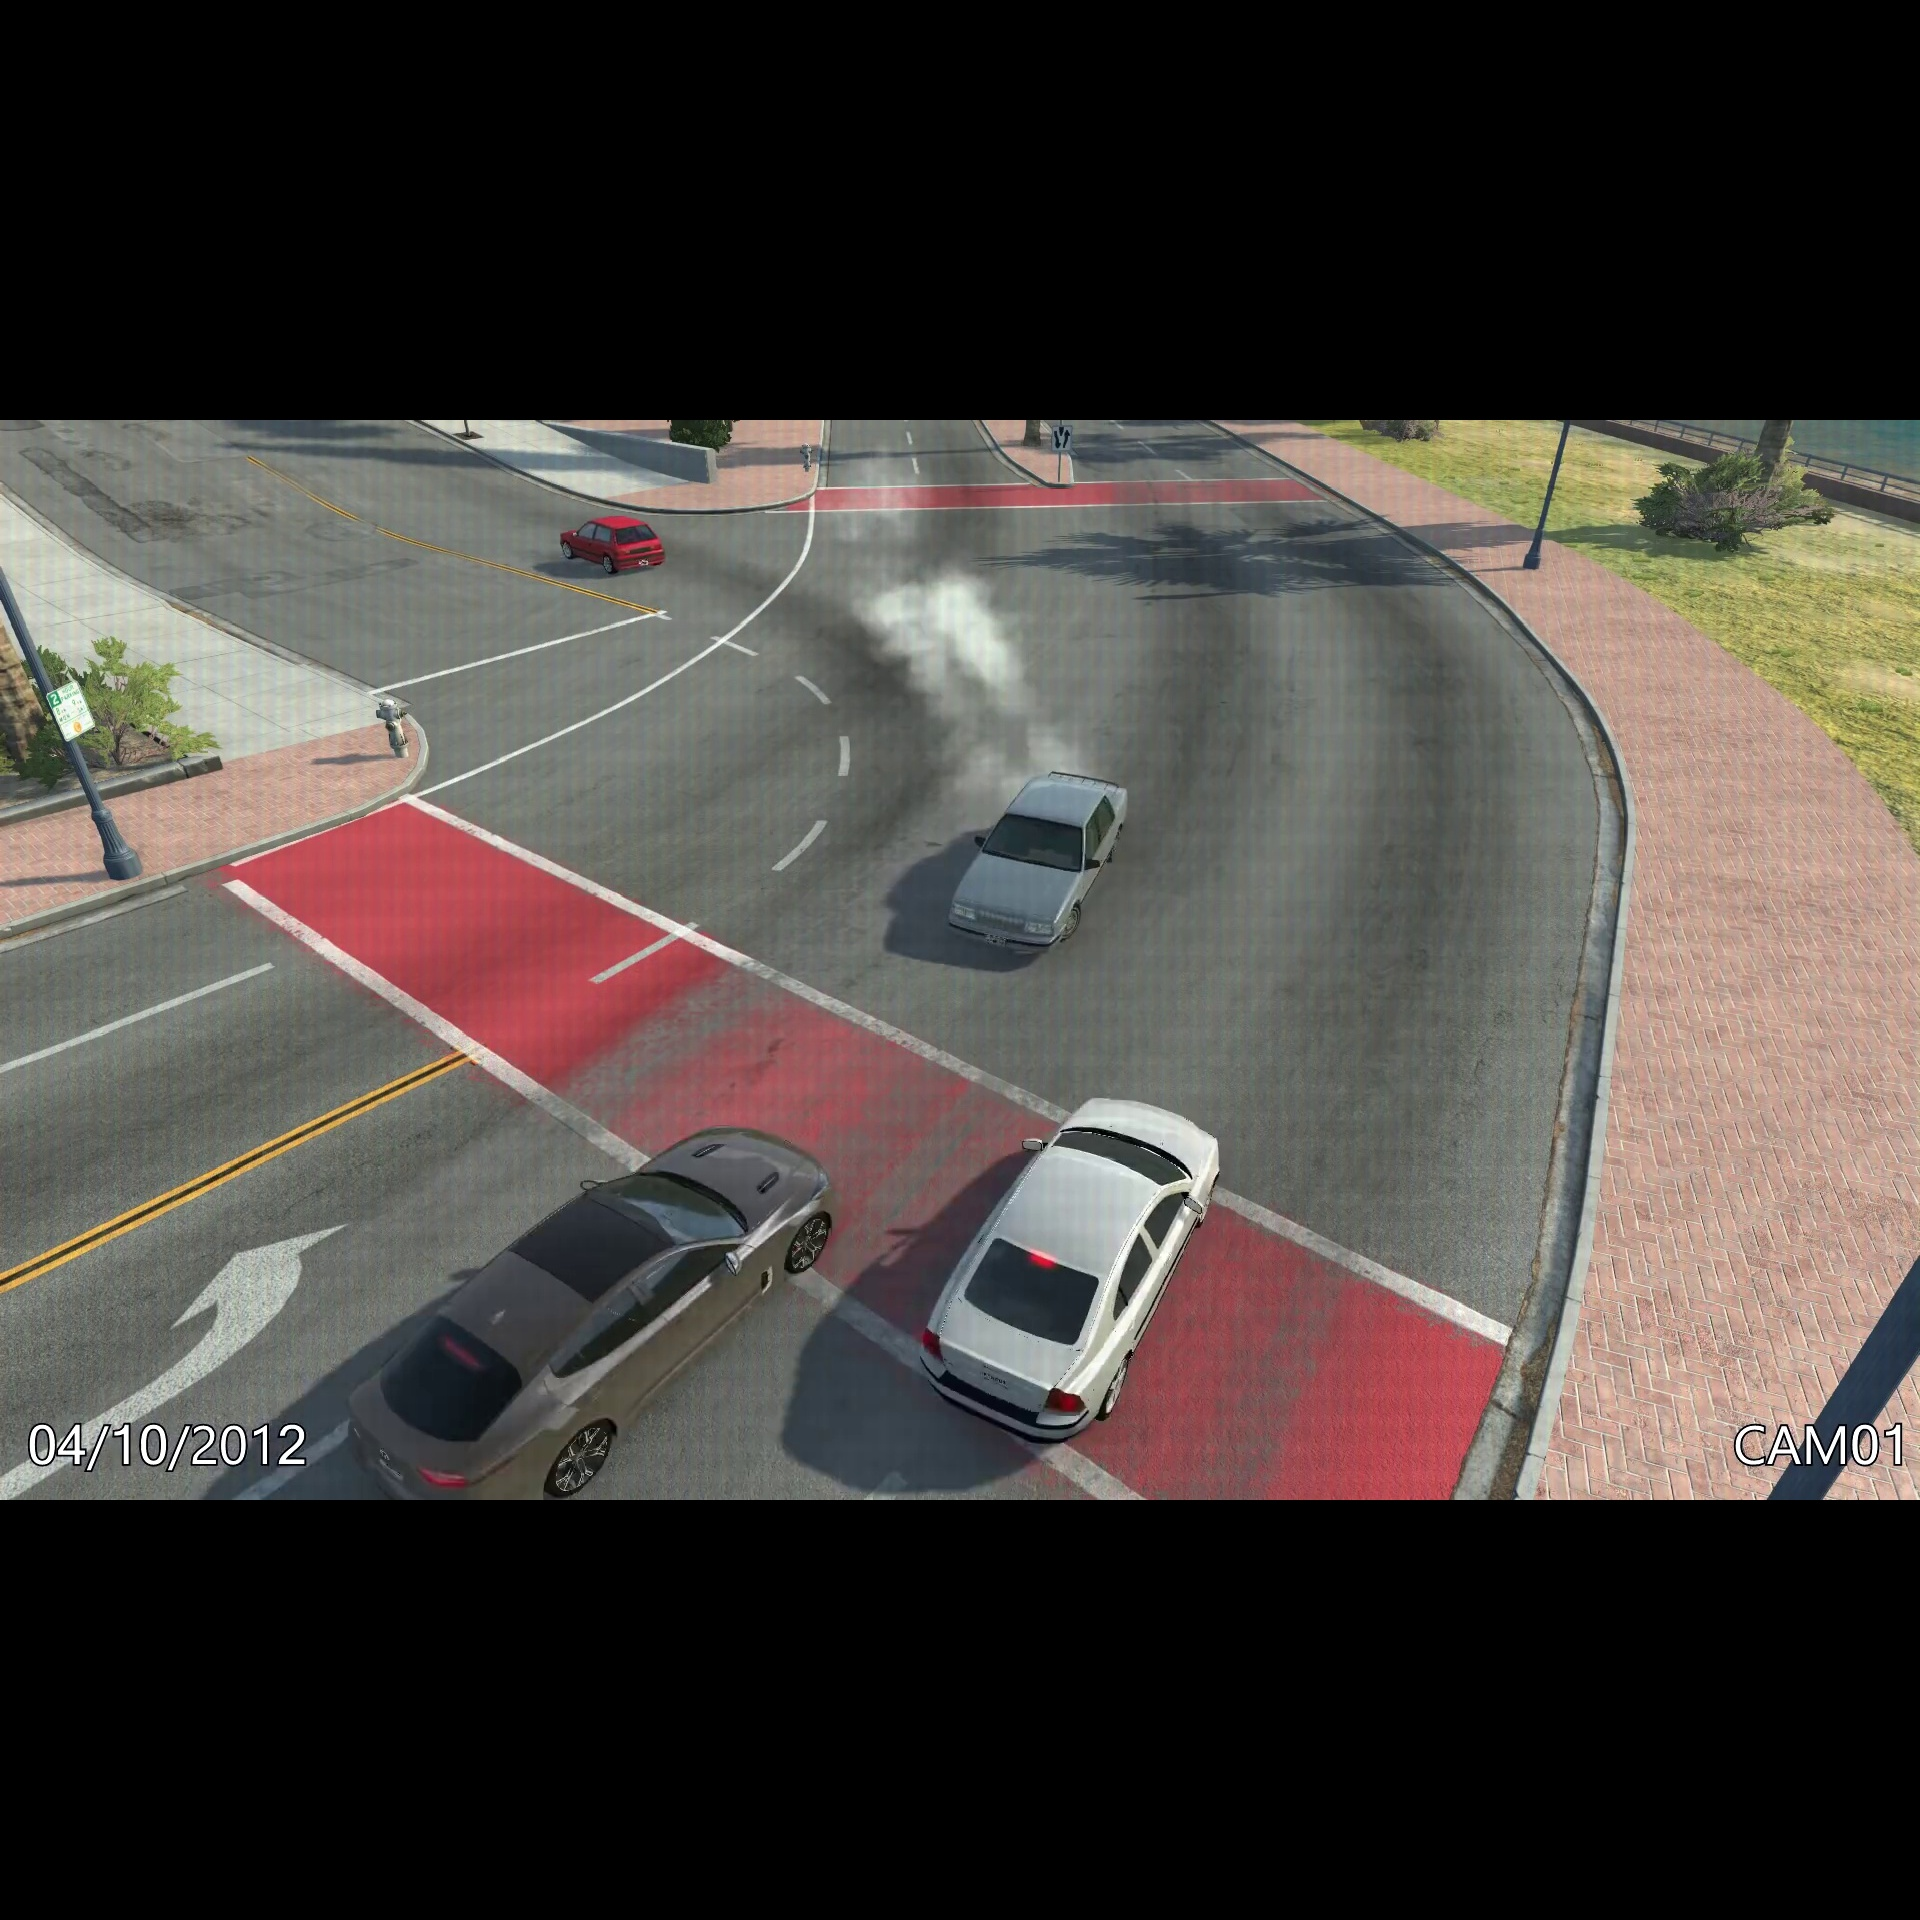vehicle: (338, 1115, 853, 1496), (913, 1087, 1231, 1452), (941, 761, 1139, 974), (554, 506, 675, 584)
